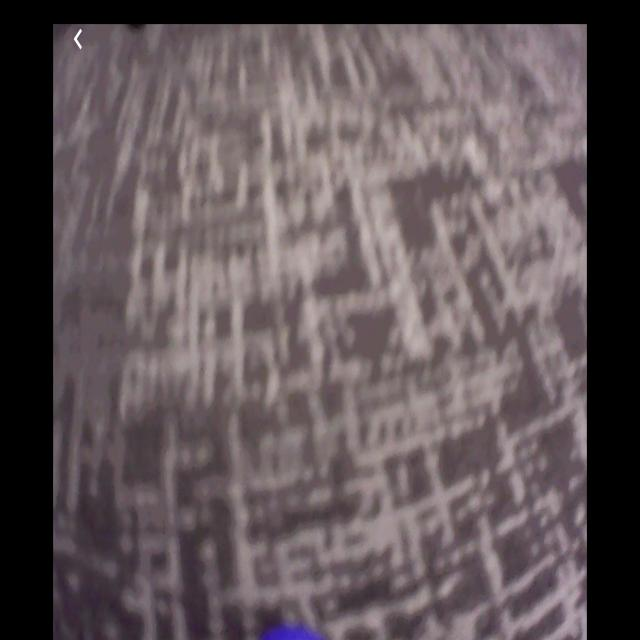ball: (264, 617, 326, 640)
